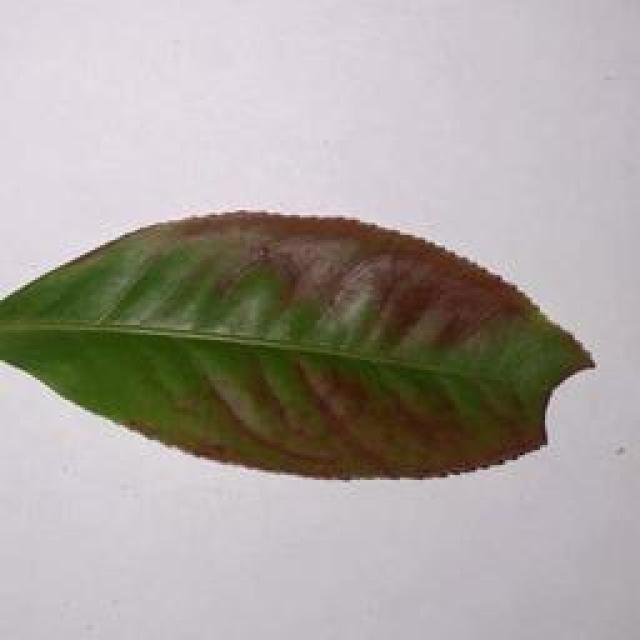Red Leaf Spot: (6, 189, 637, 496)
